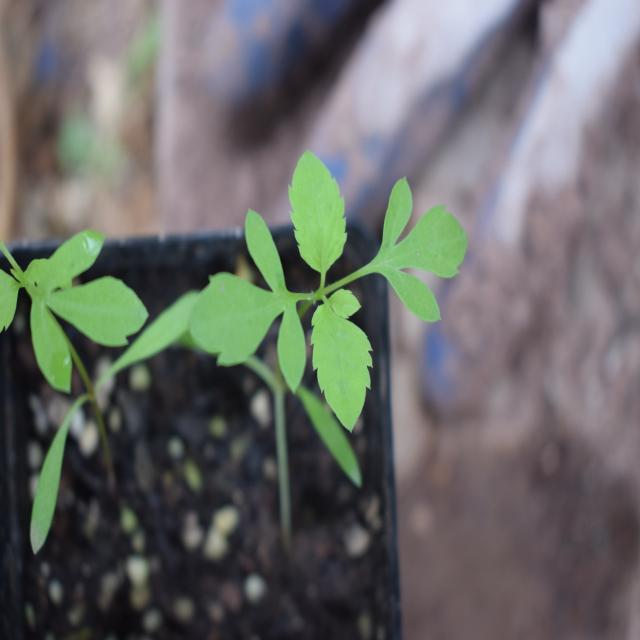Bidens pilosa: (151, 133, 465, 434)
